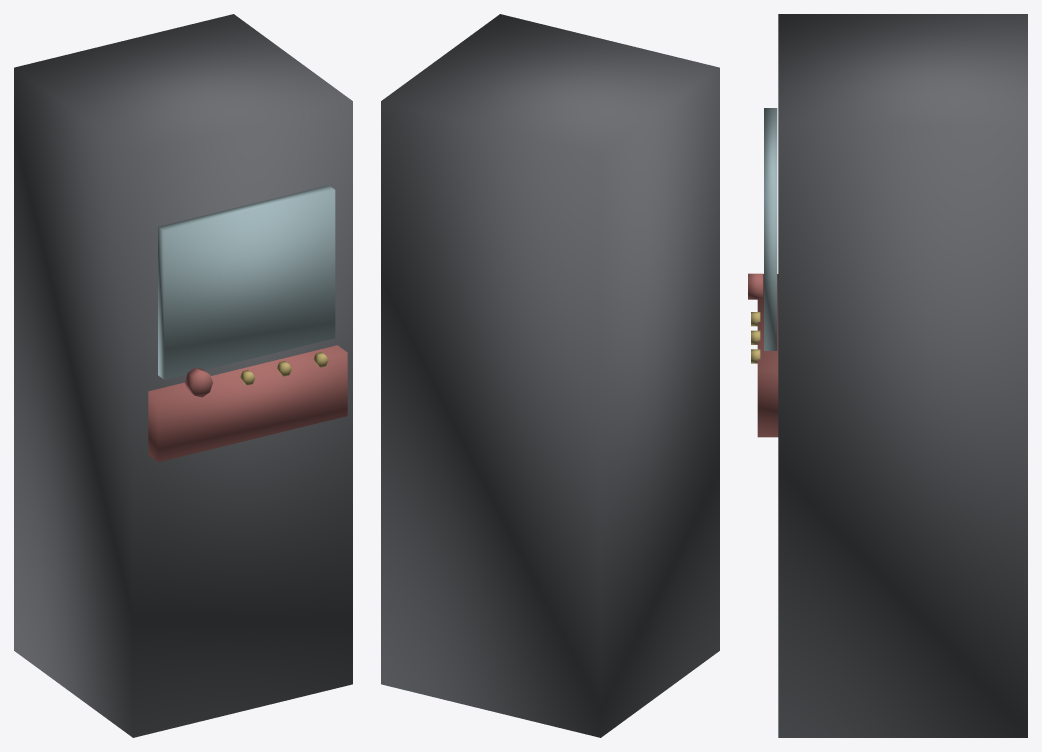
Rendered from cocktail_arcade__compact.glb.
3 views of the same model, side by side, from view 1: azimuth 30°, elevation 25°; view 2: azimuth 150°, elevation 25°; view 3: azimuth 270°, elevation 25° (orthographic). The views are drawn at different scales.
Visible parts, largest first — view 1: world; view 2: world; view 3: world.
Boxes of the visible parts, x1=… form: world: x1=14, y1=14, x2=352, y2=737; world: x1=381, y1=14, x2=719, y2=737; world: x1=748, y1=14, x2=1027, y2=737.
Size of the model in its own units: 0.6048 by 1.53 by 0.6364.
